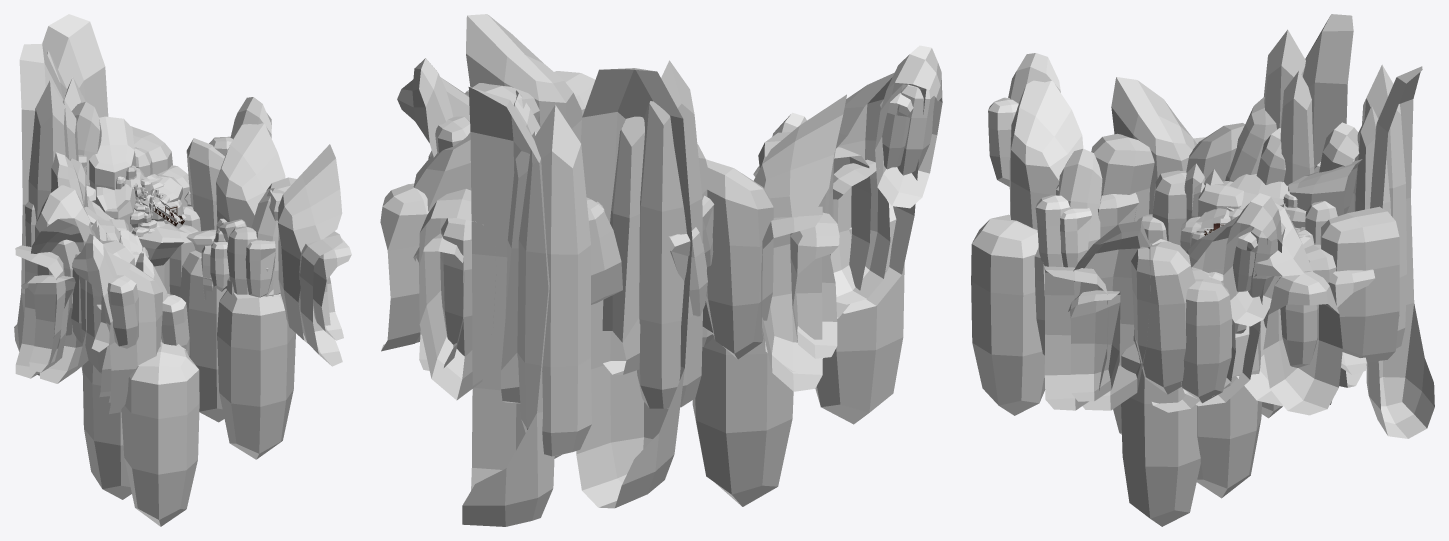
The model's file is escenario1.fbx.
3 renders of one model, left to right at view 1: azimuth 30°, elevation 25°; view 2: azimuth 150°, elevation 25°; view 3: azimuth 270°, elevation 25°, orthographic. The views are drawn at different scales.
Parts seen in each view (by area): view 1: Cube.192; view 2: Cube.192; view 3: Cube.192.
Boxes of the visible parts, box(x1,y1,x2,y2) form: Cube.192: box(14, 14, 351, 526); Cube.192: box(380, 14, 942, 526); Cube.192: box(971, 14, 1434, 526).
Bounding box in the file's own units: 86406 × 106953 × 103821.
Materials: 84 (74 with a texture image).
